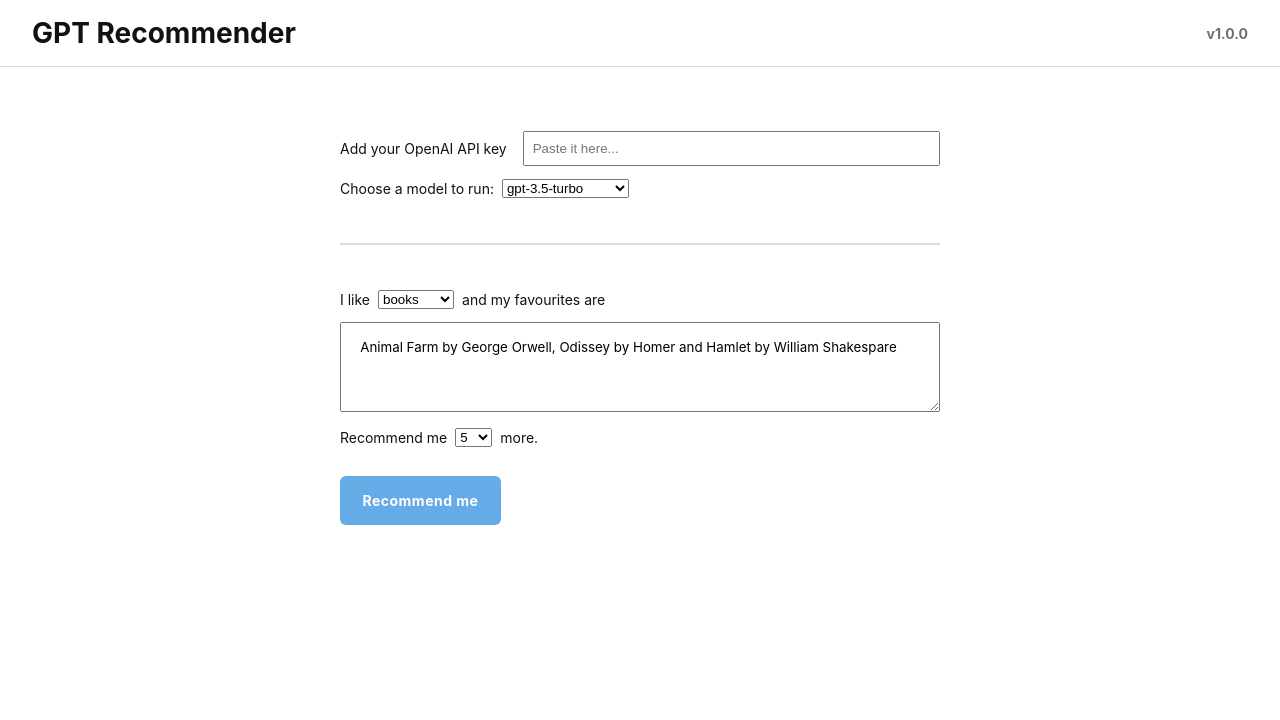
Test: HomePage - Page components › Expect button to be enabled if all the entered values are valid
Type "api_keySample123784" into the field with placeholder "Paste it here...". click: x=731, y=148
box: [523,131,940,166]
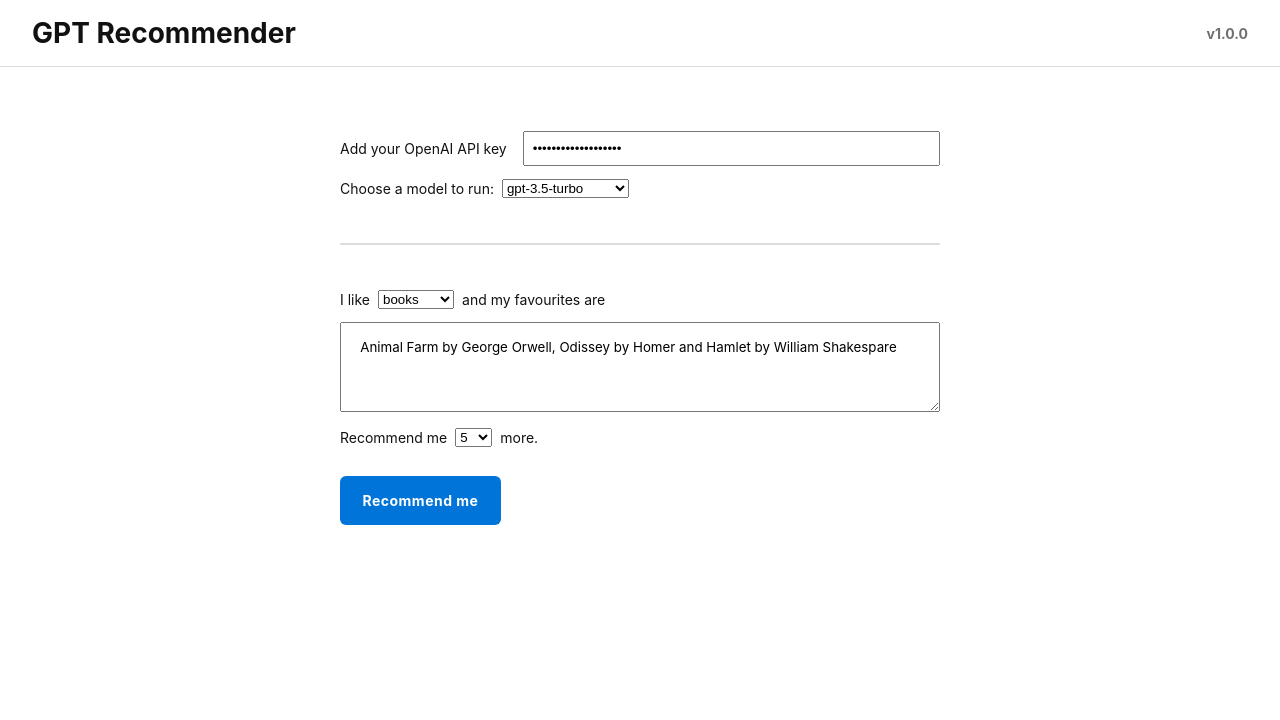
Result: the button is enabled at [340,476,501,525]
